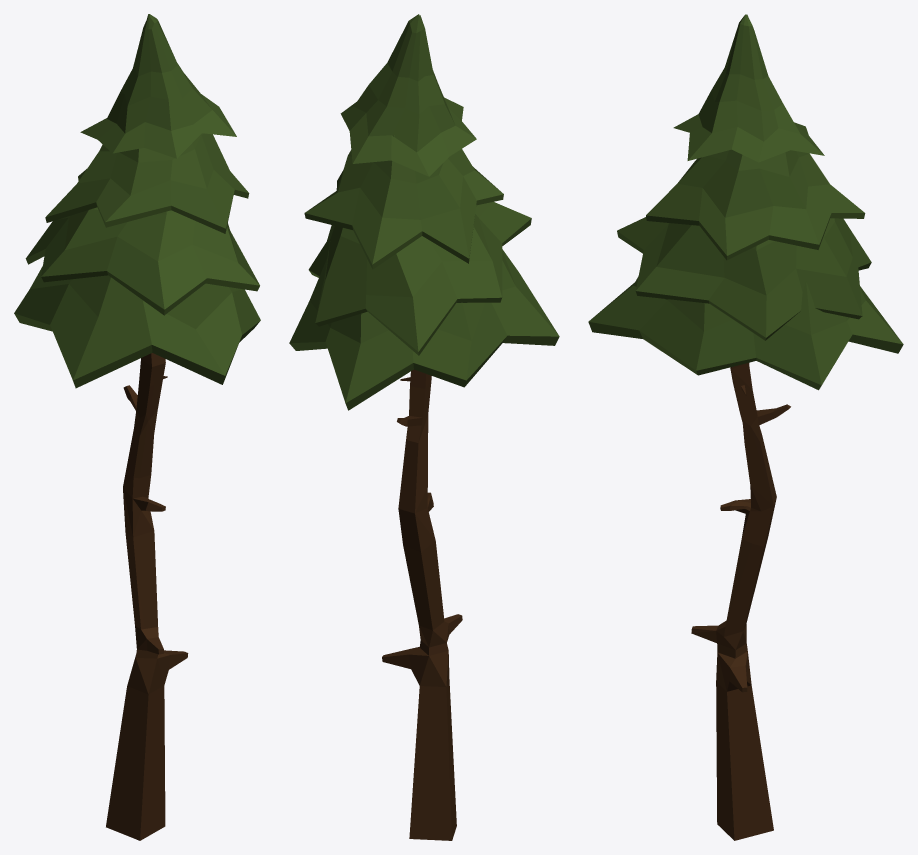
Rendered from Tree4.fbx.
3 renders of one model, left to right at view 1: azimuth 30°, elevation 25°; view 2: azimuth 150°, elevation 25°; view 3: azimuth 270°, elevation 25°, orthographic.
Visible parts, largest first — view 1: Tree6, Cube.006, Circle.029, Circle.023, Circle.027; view 2: Tree6, Cube.006, Circle.029, Circle.027, Circle.023; view 3: Tree6, Cube.006, Circle.029, Circle.027, Circle.023.
Part boxes in pixels (bbox=[...]): Tree6: bbox=[14, 14, 259, 379]; Cube.006: bbox=[106, 353, 188, 840]; Circle.029: bbox=[14, 277, 260, 388]; Circle.023: bbox=[26, 249, 259, 315]; Circle.027: bbox=[45, 177, 249, 233]; Tree6: bbox=[289, 14, 559, 403]; Cube.006: bbox=[382, 369, 462, 840]; Circle.029: bbox=[289, 249, 559, 410]; Circle.027: bbox=[304, 194, 503, 269]; Circle.023: bbox=[309, 218, 531, 355]; Tree6: bbox=[617, 14, 902, 385]; Cube.006: bbox=[691, 363, 790, 840]; Circle.029: bbox=[588, 276, 903, 390]; Circle.027: bbox=[646, 213, 865, 260]; Circle.023: bbox=[617, 231, 871, 340].
Bounding box in the file's own units: 739 × 2755 × 959.
